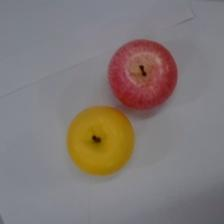red: (107, 37, 178, 111)
yellow: (66, 104, 136, 176)
